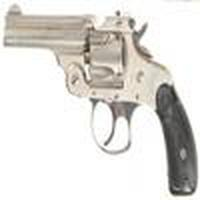gun: (3, 11, 194, 175)
